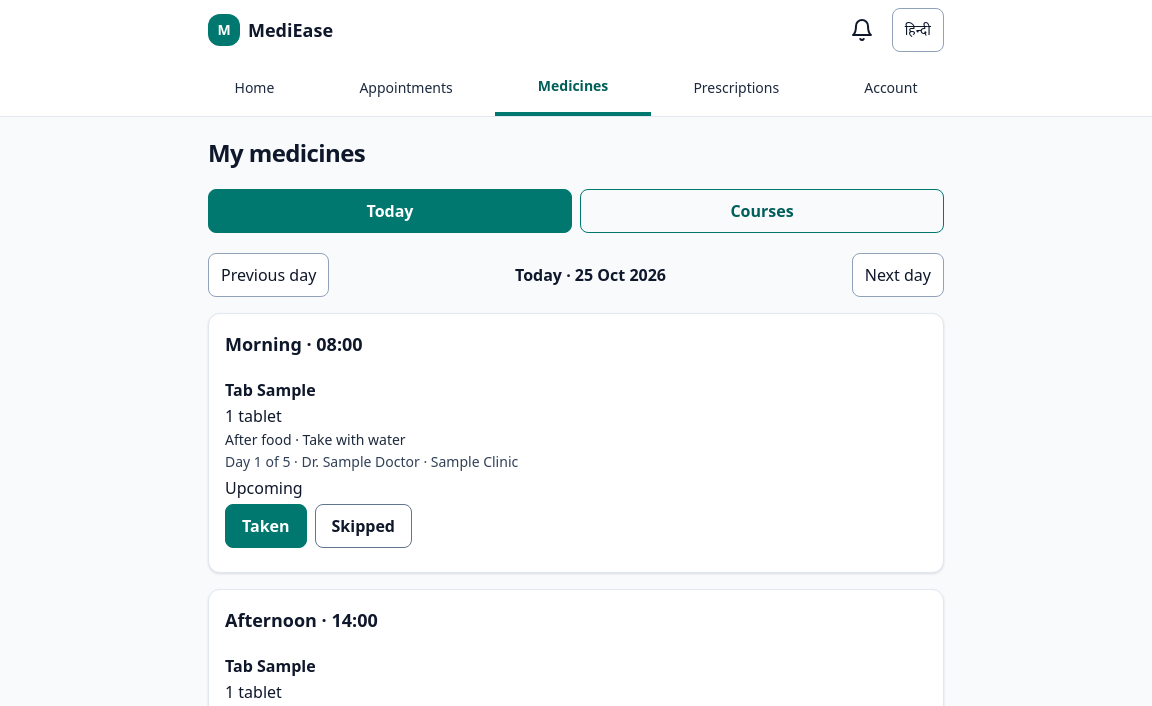
Test case: Dose marks (M6b-P3b, R45-R48) › R45, R46: Taken, then Change to Skipped, through the session; only Contact your clinic is said
The image size is (1152, 706).
Expected: the navigation bar is shown, [0,60,1151,116]
Expected: the text "Upcoming" is shown, [225,477,303,499]
Click the button with aria-label "Taken: Tab Sample, Morning": (266,526) [225,504,306,548]
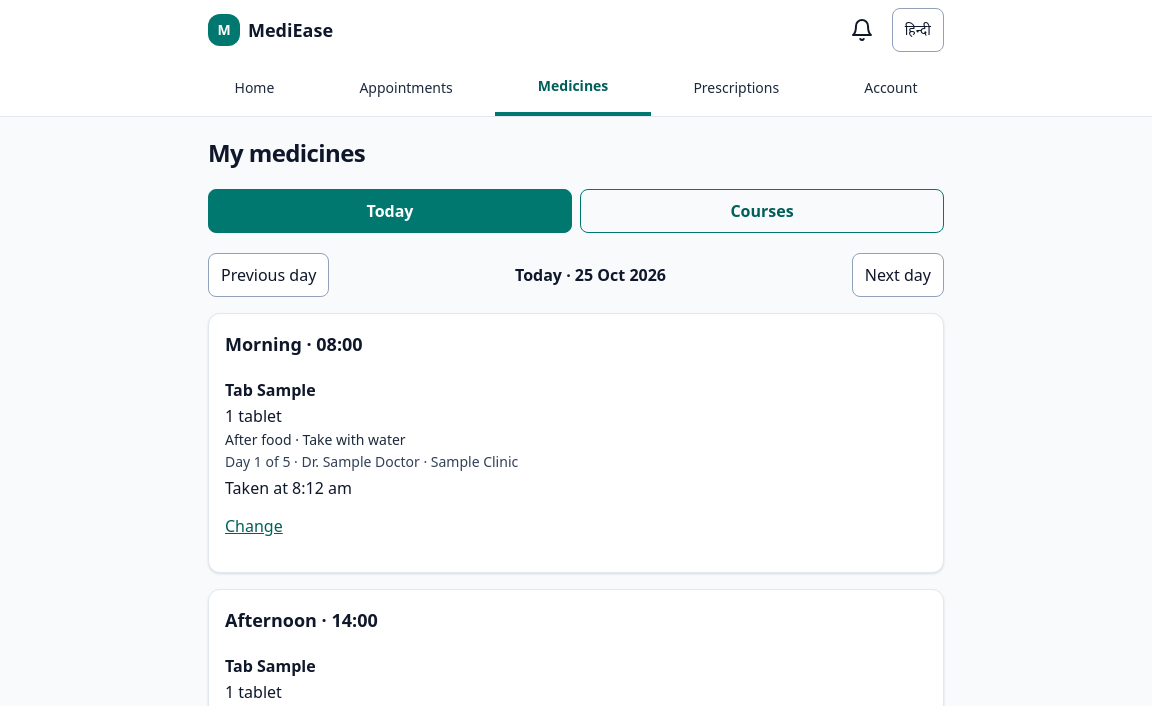
Expected: the text "contact your clinic" is not shown
Expected: the text "Taken at 8:12 am" is shown, [225,477,352,499]
Click the button "Change": (254,526) [225,504,283,548]
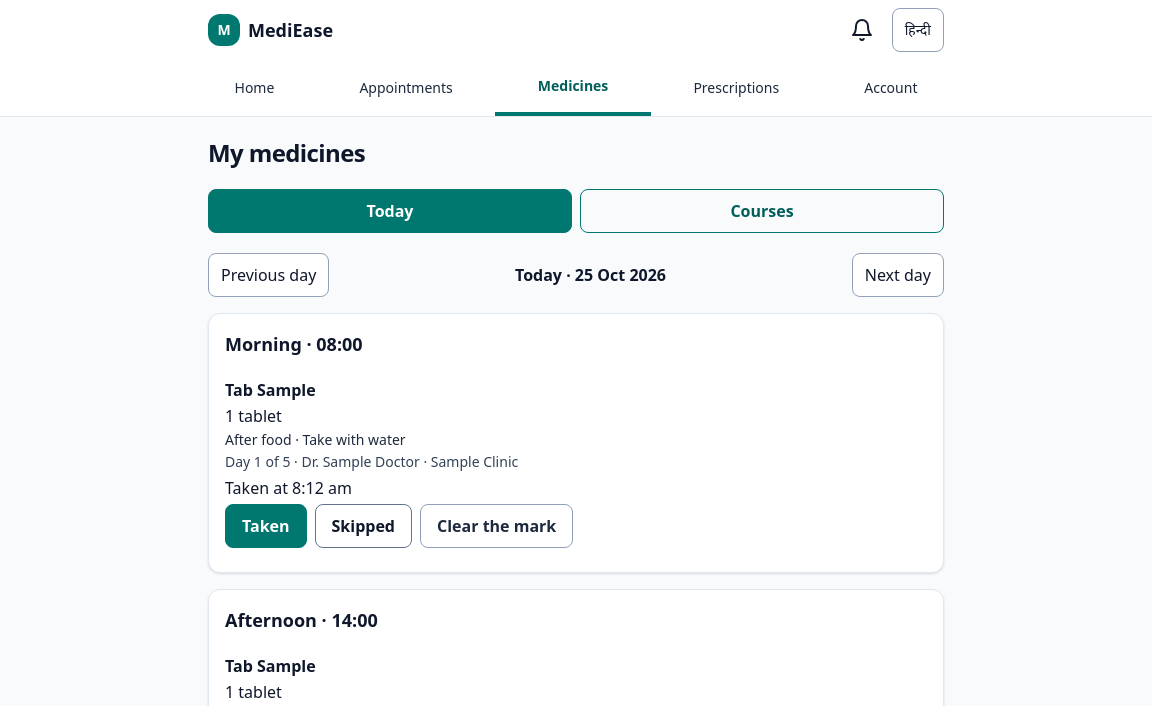
Click the button with aria-label "Skipped: Tab Sample, Morning": (363,526) [314,504,412,548]
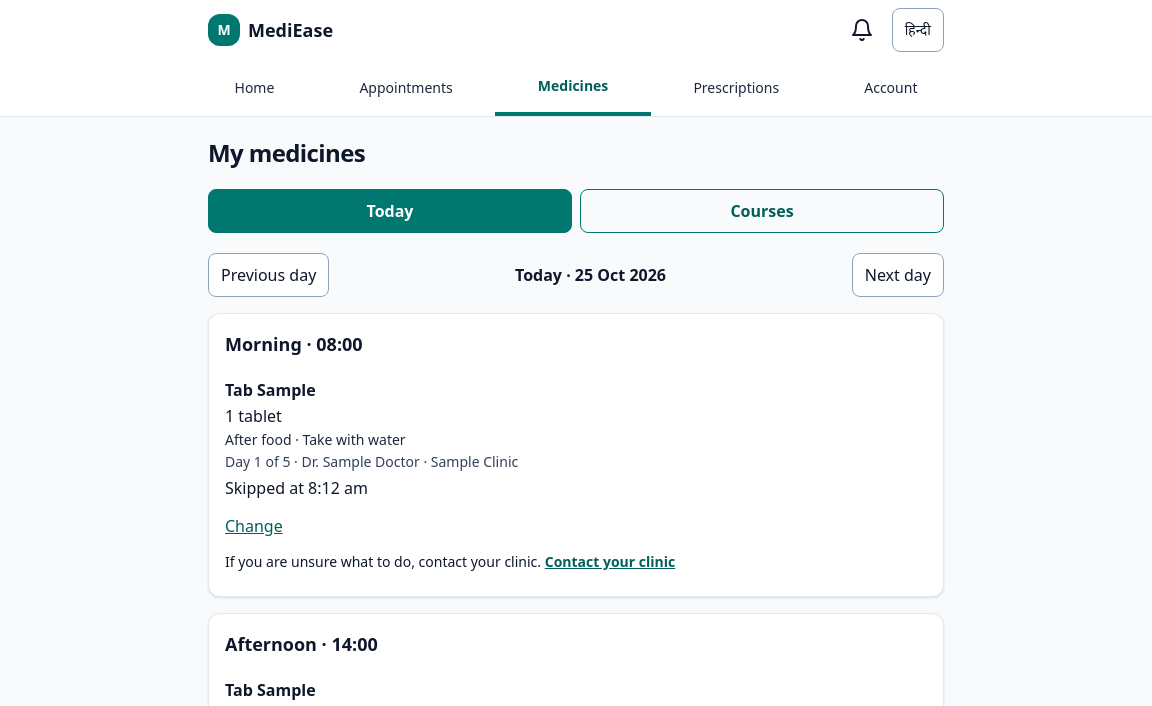
Expected: the text "Skipped at 8:12 am" is shown, [225,477,368,499]
Expected: the text "If you are unsure what to do, contact your clinic" is shown, [225,552,541,571]
